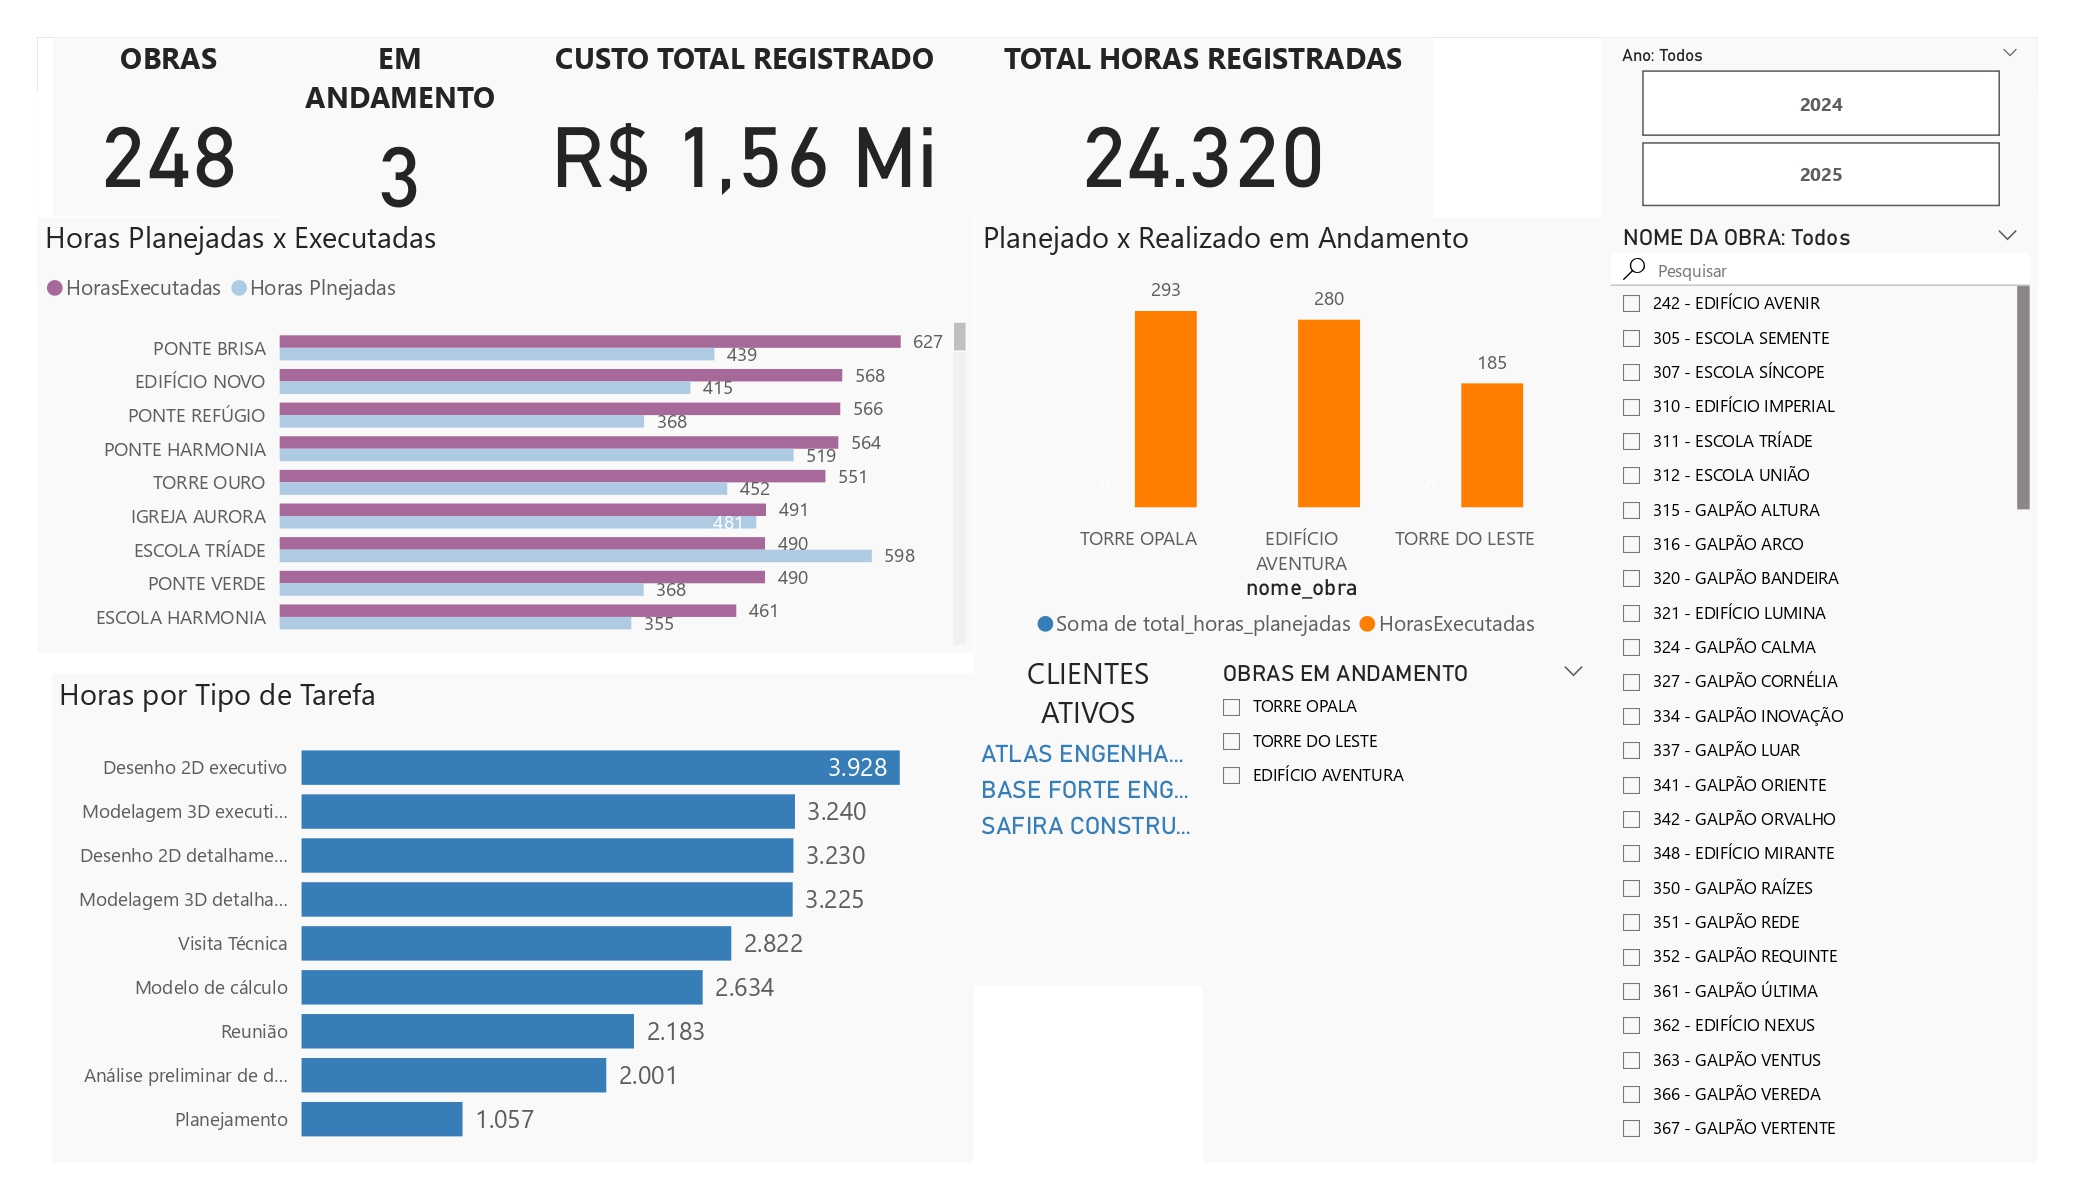

The dashboard page shown, as its layout file describes it:
{"tool":"powerbi","page":{"name":"1 Geral","canvas":[1280,720],"ordinal":0},"visuals":[{"type":"card","title":"OBRAS","fields":{"Values":["Count(Obra.nome_obra)"]},"box":[9.6,0,148,114.3],"z":0},{"type":"slicer","fields":{"Values":["Calendario.Ano"]},"box":[1001.1,0,278.9,114.5],"z":1000},{"type":"card","title":"EM ANDAMENTO","fields":{"Values":["Count(Obra.nome_obra)"]},"box":[157.9,0,147.8,114.5],"z":2000},{"type":"card","title":"CUSTO TOTAL REGISTRADO","fields":{"Values":["Registro.CustoTotalPorObra"]},"box":[305.7,0,293.7,114.5],"z":3000},{"type":"clusteredBarChart","title":"Horas Planejadas x Executadas","fields":{"Y":["Obra.HorasExecutadas","Obra.Horas Plnejadas"],"Category":["Obra.nome_obra"]},"box":[0,114.5,599.4,279.8],"z":4000},{"type":"clusteredBarChart","title":"Horas por Tipo de Tarefa","fields":{"Category":["TipoTarefa.nome_tipo"],"Y":["Obra.HorasExecutadas"]},"box":[9.2,407.3,590.1,313.1],"z":5000},{"type":"slicer","fields":{"Values":["Obra.obra_display"]},"box":[1001.5,114.5,278.5,605.3],"z":6000},{"type":"card","title":"TOTAL HORAS REGISTRADAS","fields":{"Values":["Obra.HorasExecutadas"]},"box":[599.4,0,293.7,114.5],"z":7000},{"type":"clusteredColumnChart","title":"Planejado x Realizado em Andamento","fields":{"Category":["Obra.nome_obra"],"Y":["Sum(Obra.total_horas_planejadas)","Obra.HorasExecutadas"]},"box":[600.1,114.5,401.4,279.5],"z":8000},{"type":"multiRowCard","title":"CLIENTES ATIVOS","fields":{"Values":["Cliente.nome_cliente"]},"box":[599,394.1,147.1,213.3],"z":9000},{"type":"slicer","fields":{"Values":["Obra.nome_obra"]},"box":[746.1,394.1,255.4,325.8],"z":10000}]}

Visuals, with their boxes in screenshot pixels (x1, y1, x2, y2):
"OBRAS" card: 52 38 284 216
slicer - Calendario.Ano: 1602 38 2038 216
"EM ANDAMENTO" card: 284 38 515 216
"CUSTO TOTAL REGISTRADO" card: 515 38 974 216
"Horas Planejadas x Executadas" clusteredBarChart: 38 216 974 654
"Horas por Tipo de Tarefa" clusteredBarChart: 52 674 974 1162
slicer - Obra.obra_display: 1602 216 2038 1162
"TOTAL HORAS REGISTRADAS" card: 974 38 1433 216
"Planejado x Realizado em Andamento" clusteredColumnChart: 975 216 1602 653
"CLIENTES ATIVOS" multiRowCard: 973 653 1203 987
slicer - Obra.nome_obra: 1203 653 1602 1162
